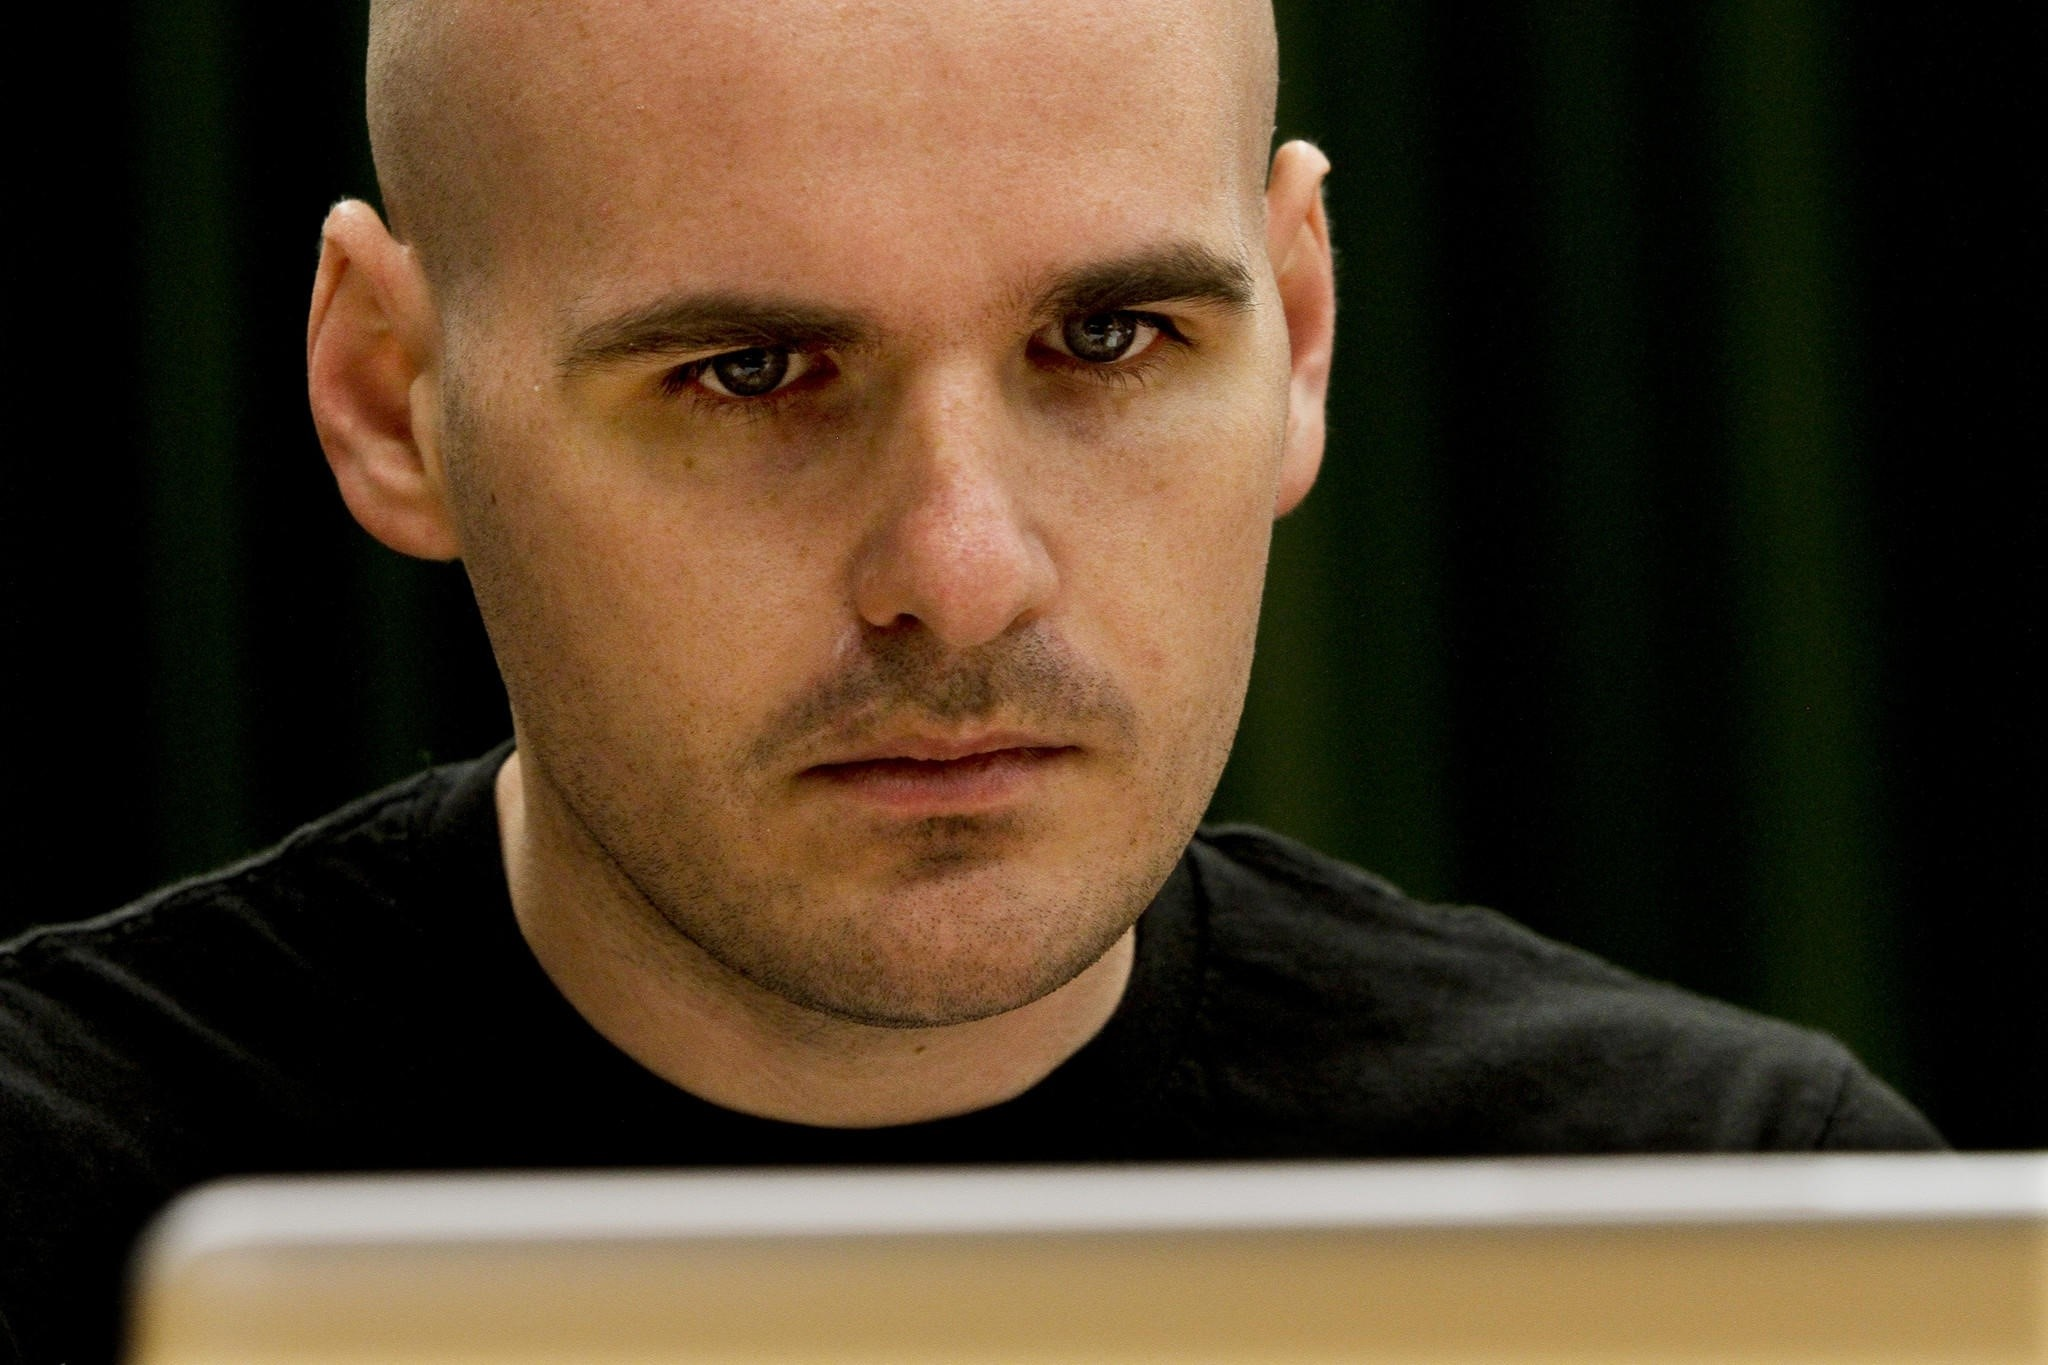face_no_mask: (306, 1, 1337, 1020)
